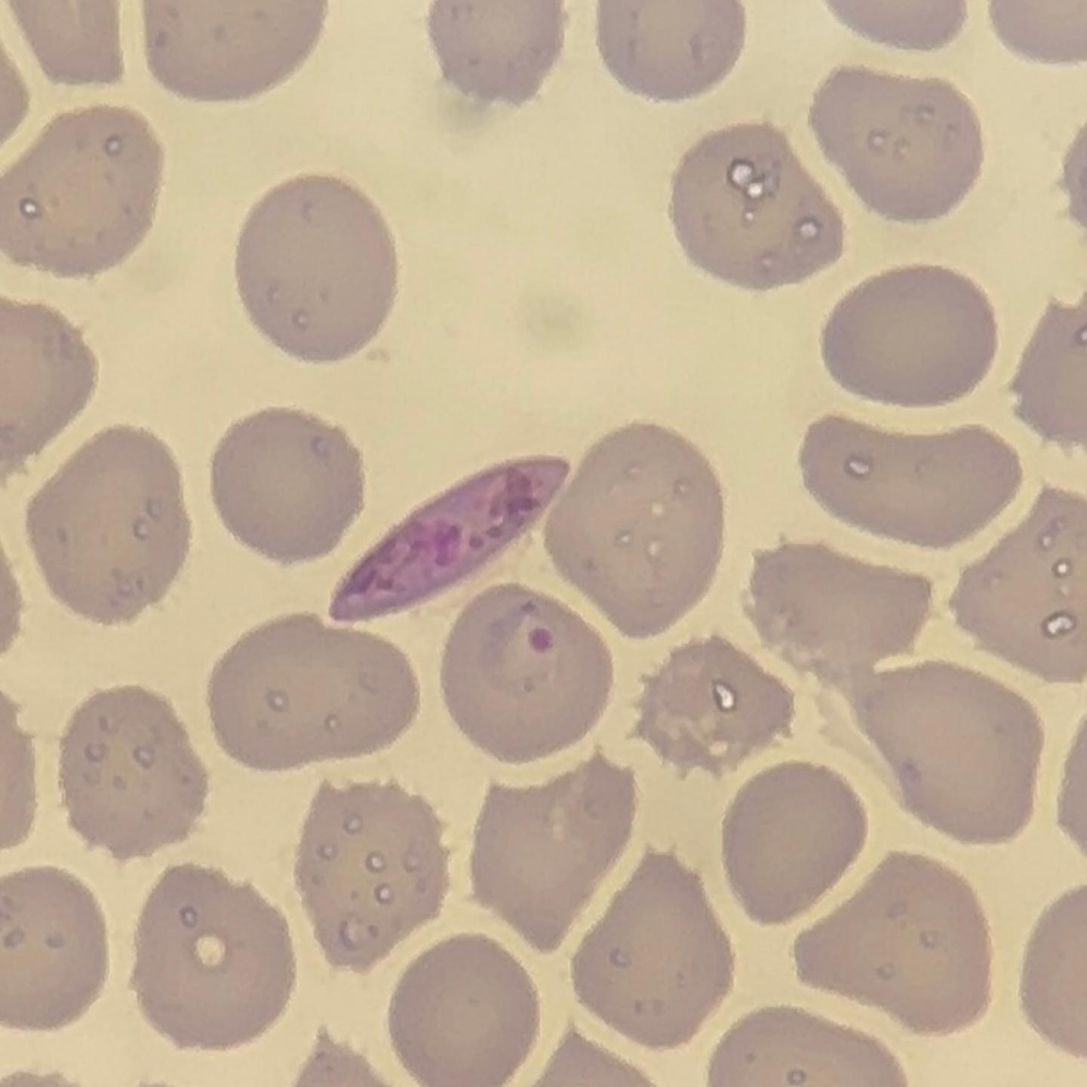Infected: (322, 456, 578, 619), (438, 585, 608, 763)
Uninfected: (544, 420, 726, 637), (796, 849, 989, 1038), (26, 424, 192, 624), (465, 754, 634, 948), (207, 616, 415, 773), (858, 666, 1039, 846), (239, 174, 402, 364), (572, 853, 730, 1047), (292, 777, 449, 969), (134, 865, 293, 1049), (800, 416, 1015, 548), (3, 102, 164, 278), (670, 124, 840, 289), (742, 543, 932, 687), (809, 66, 982, 224), (58, 685, 208, 858), (819, 266, 999, 410), (210, 410, 365, 567), (633, 634, 795, 779), (719, 763, 864, 923), (385, 938, 538, 1087), (0, 864, 109, 1030)
